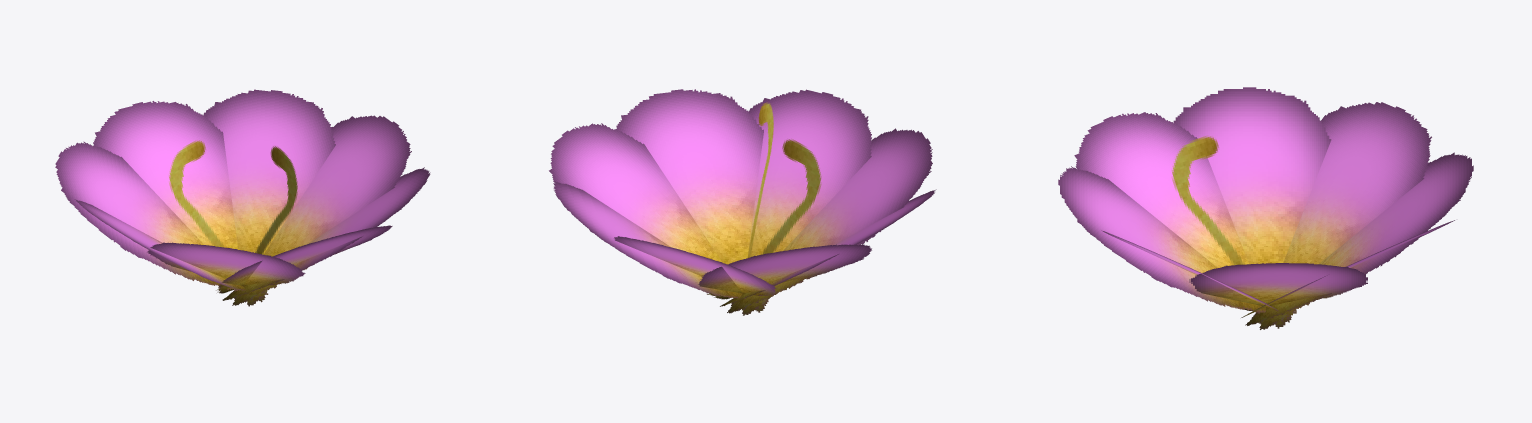
Rendered from BETA Purple.glb.
3 views of the same model, side by side, from view 1: azimuth 30°, elevation 25°; view 2: azimuth 150°, elevation 25°; view 3: azimuth 270°, elevation 25° (orthographic). The views are drawn at different scales.
Visible parts, largest first — view 1: Flower A2; view 2: Flower A2; view 3: Flower A2.
Part boxes in pixels (box(x1,y1,x2,y2)): Flower A2: box(55, 89, 430, 306); Flower A2: box(549, 89, 936, 315); Flower A2: box(1058, 87, 1473, 329).
Size of the model in its own units: 0.3067 by 0.2478 by 0.3067.
Materials: 2 (2 with a texture image).
